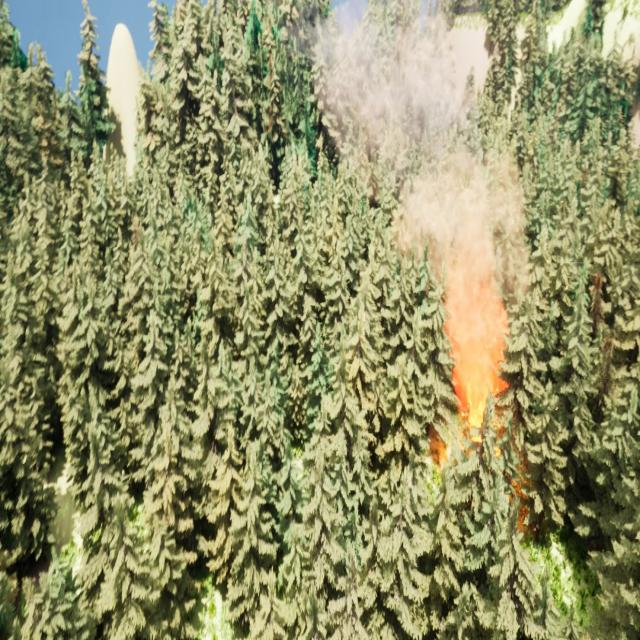fire: (432, 306, 526, 452)
smoke: (312, 0, 544, 308)
